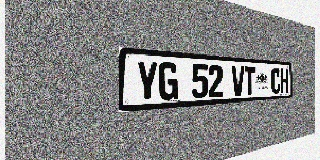2: (208, 65, 223, 98)
5: (192, 64, 208, 99)
C: (271, 68, 280, 94)
G: (159, 62, 178, 101)
H: (280, 68, 288, 93)
T: (244, 66, 255, 95)
V: (232, 66, 244, 96)
Y: (136, 61, 158, 102)
